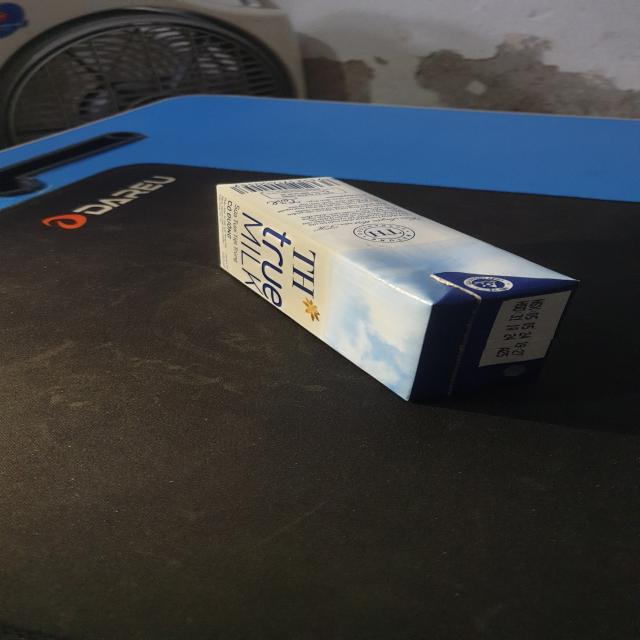TH: (214, 176, 584, 401)
